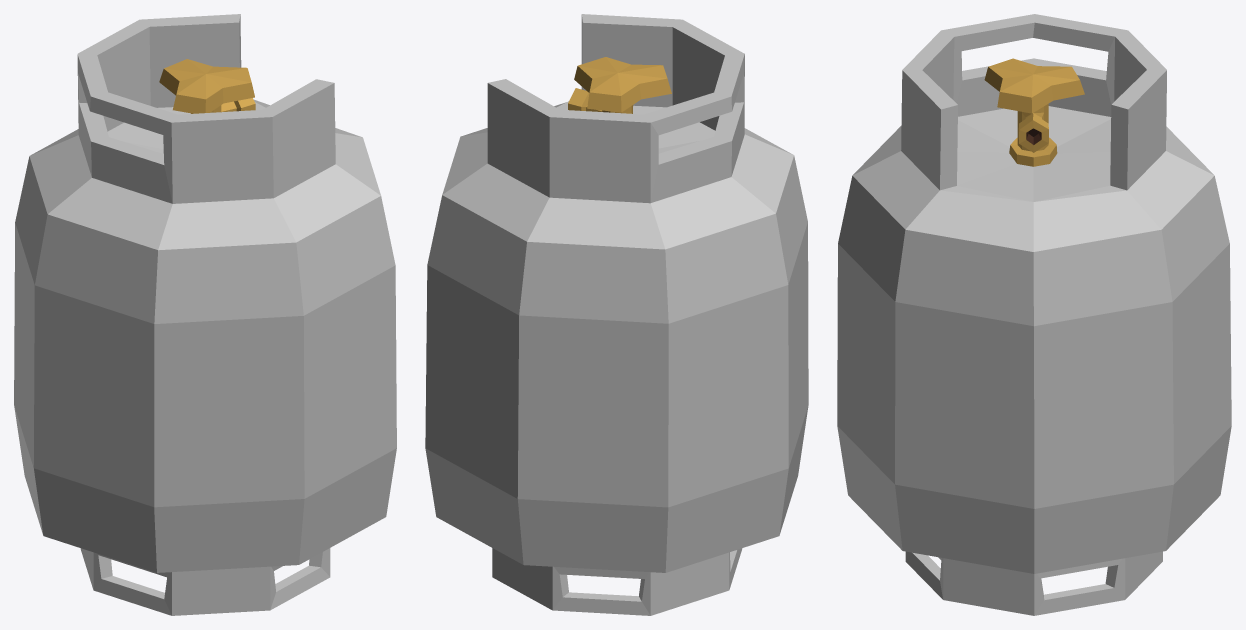
The model's file is Propane.fbx.
The picture shows the model from 3 angles, left to right: view 1: azimuth 30°, elevation 25°; view 2: azimuth 150°, elevation 25°; view 3: azimuth 270°, elevation 25°; orthographic projection.
Visible parts, largest first — view 1: Propane; view 2: Propane; view 3: Propane.
Boxes of the visible parts, x1=… form: Propane: x1=14, y1=14, x2=396, y2=615; Propane: x1=425, y1=14, x2=808, y2=615; Propane: x1=837, y1=14, x2=1231, y2=615.
Bounding box in the file's own units: 34.78 × 47.87 × 34.78.
Materials: 1 (1 with a texture image).
